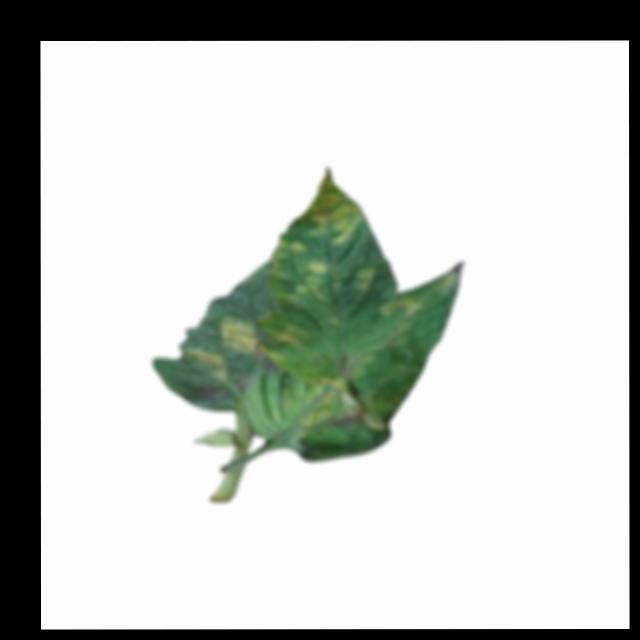Leaf_Mold: (296, 166, 362, 243), (185, 315, 259, 379), (288, 380, 343, 429), (375, 290, 418, 341), (292, 259, 325, 302), (268, 318, 307, 347)
